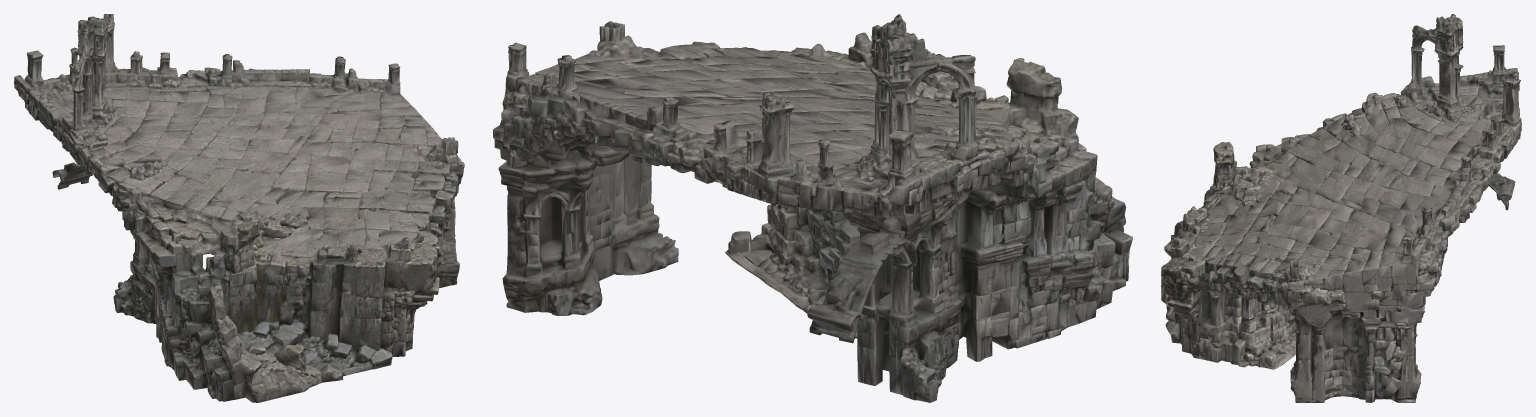
File: ruin.glb
The picture shows the model from 3 angles, left to right: view 1: azimuth 30°, elevation 25°; view 2: azimuth 150°, elevation 25°; view 3: azimuth 270°, elevation 25°; orthographic projection. The views are drawn at different scales.
Visible parts, largest first — view 1: tripo_node_0adbae1d-597d-4911-ab71-38e36cc9817c; view 2: tripo_node_0adbae1d-597d-4911-ab71-38e36cc9817c; view 3: tripo_node_0adbae1d-597d-4911-ab71-38e36cc9817c.
Part boxes in pixels (box(x1,y1,x2,y2)): tripo_node_0adbae1d-597d-4911-ab71-38e36cc9817c: box(14, 14, 464, 402); tripo_node_0adbae1d-597d-4911-ab71-38e36cc9817c: box(493, 14, 1132, 402); tripo_node_0adbae1d-597d-4911-ab71-38e36cc9817c: box(1161, 14, 1521, 402).
Size of the model in its own units: 0.9817 by 0.7765 by 0.9809.
1 material, 1 textured.
